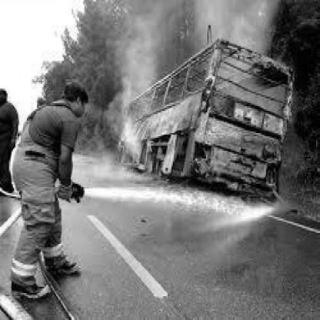Smoke: (115, 32, 151, 160)
